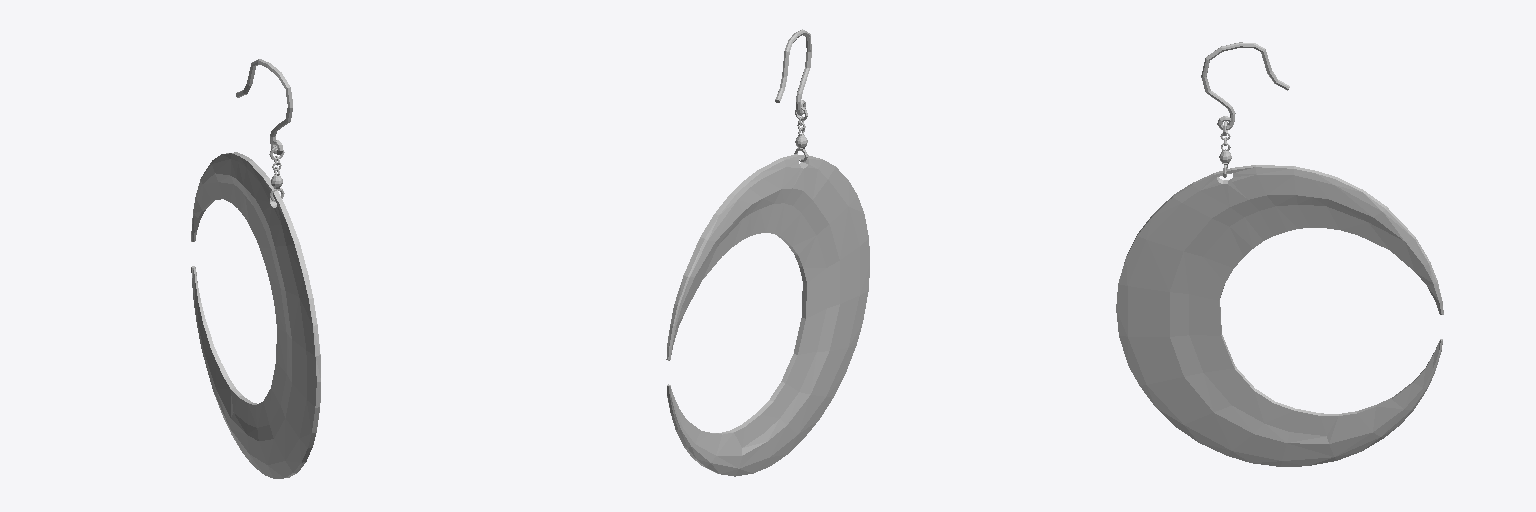
The model's file is tifa_marineCharm.obj.
3 renders of one model, left to right at view 1: azimuth 30°, elevation 25°; view 2: azimuth 150°, elevation 25°; view 3: azimuth 270°, elevation 25°, orthographic.
Parts seen in each view (by area): view 1: PC0002_01_MarineCharm; view 2: PC0002_01_MarineCharm; view 3: PC0002_01_MarineCharm.
Part boxes in pixels (x1,y1,x2,y2): PC0002_01_MarineCharm: (191,59,320,478); PC0002_01_MarineCharm: (666,29,869,476); PC0002_01_MarineCharm: (1116,42,1443,466).
Bounding box in the file's own units: 0.0061 × 0.0584 × 0.0414.